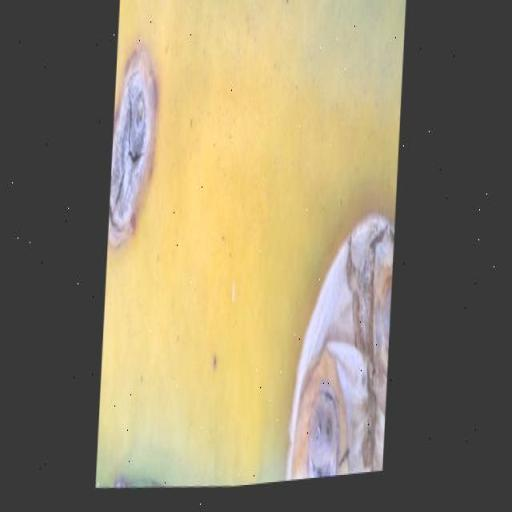stemcanker: (208, 347, 225, 382), (136, 369, 149, 384)
